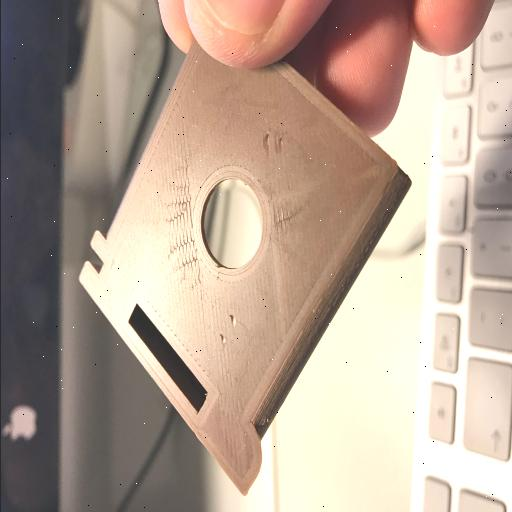cracks: (154, 160, 208, 298), (254, 129, 290, 157), (268, 206, 300, 236), (215, 316, 239, 344)
